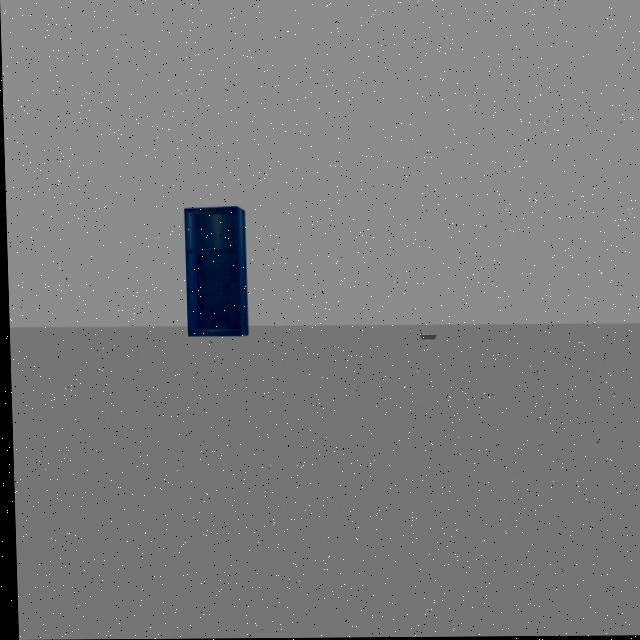bowl: (412, 324, 441, 350)
shelf: (172, 196, 257, 354)
